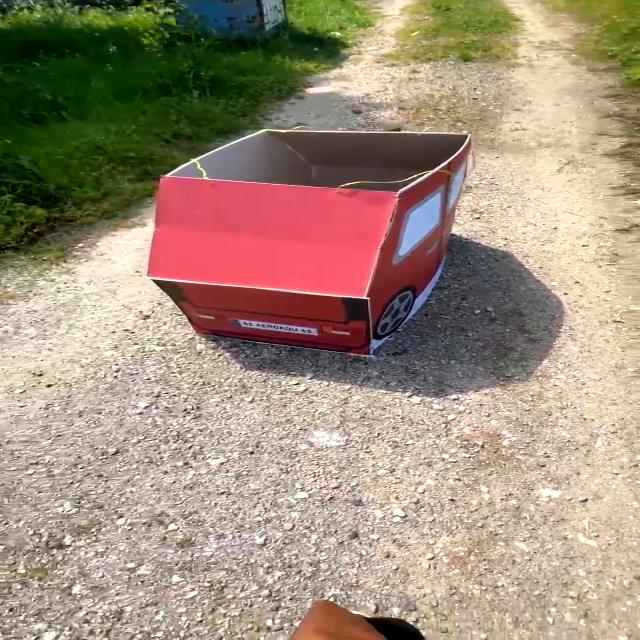red_car: (128, 105, 496, 407)
